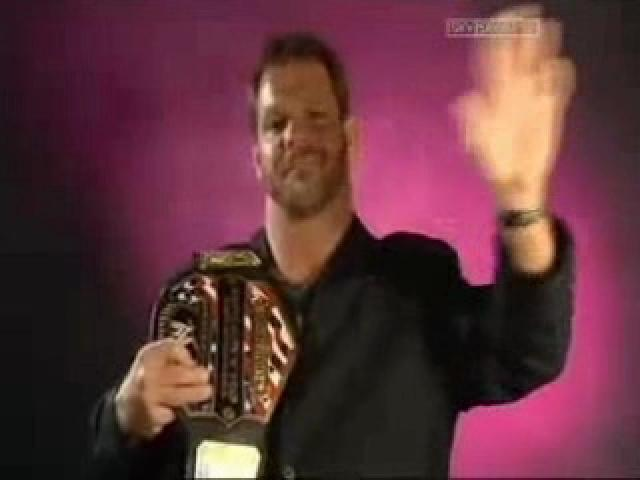L: (86, 24, 574, 478)
